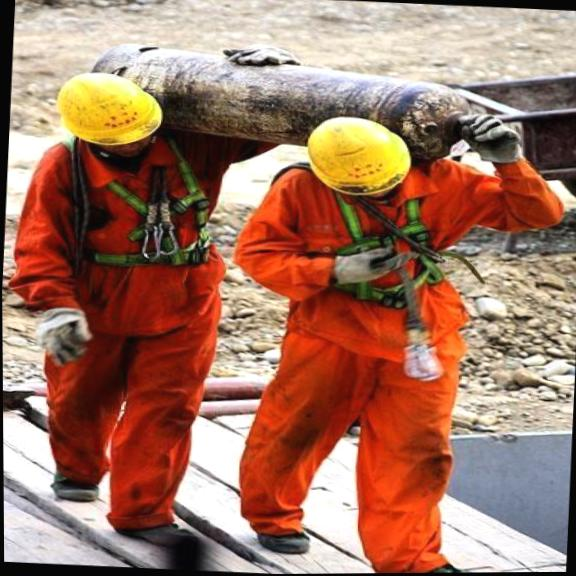safety_vest: (246, 187, 477, 370), (40, 146, 225, 366)
